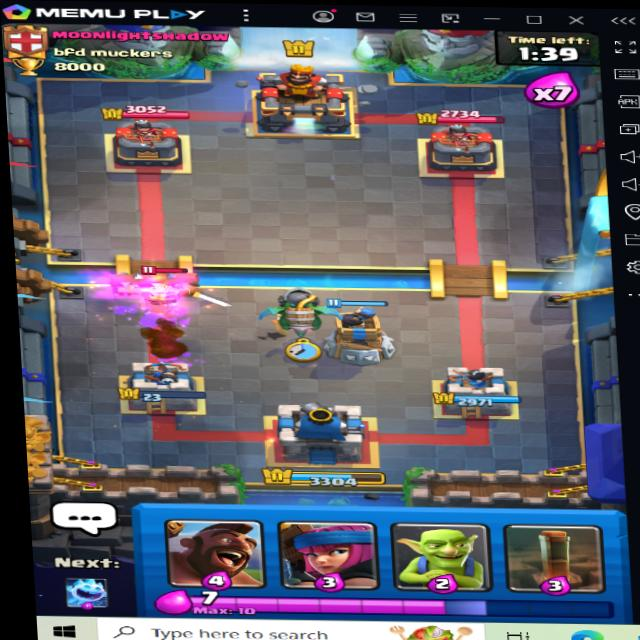golden-knight: (130, 267, 217, 314)
golden-knight-ability: (131, 268, 211, 316)
